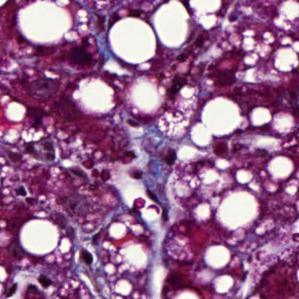inflammation: (71, 248, 99, 268), (11, 181, 31, 201)
